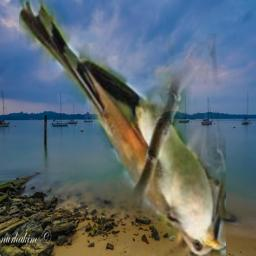Cuckoo: (19, 0, 226, 256)
